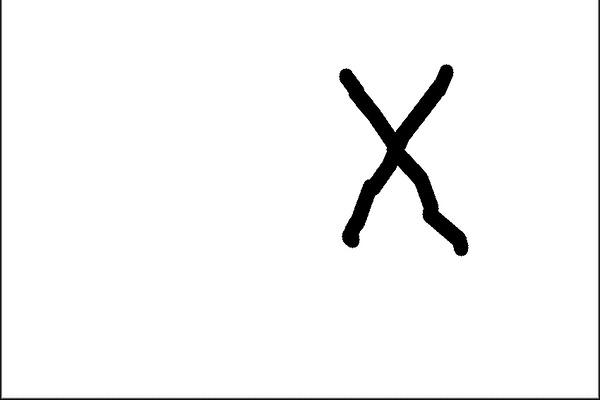X: (282, 39, 488, 294)
